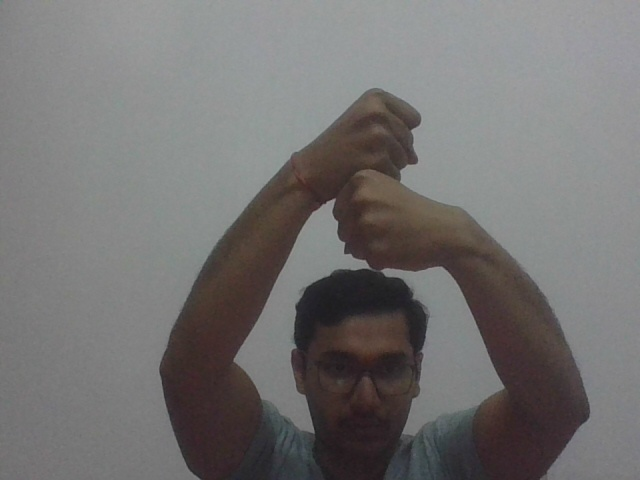G: (304, 82, 473, 272)
